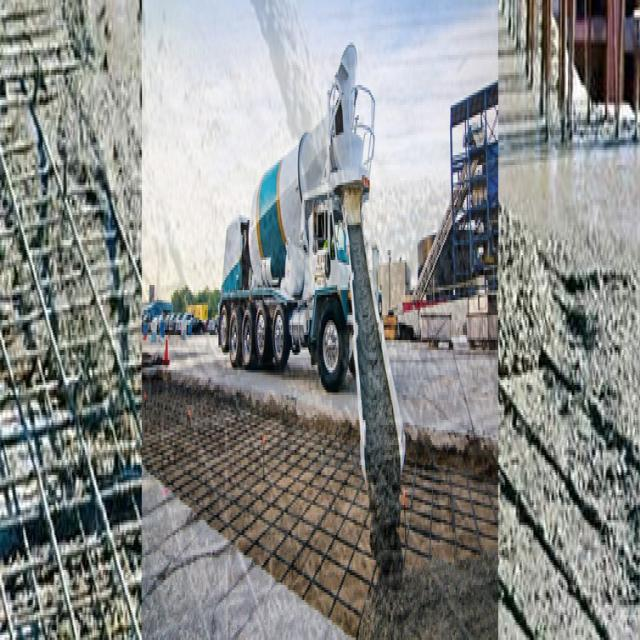truck: (219, 44, 405, 503)
